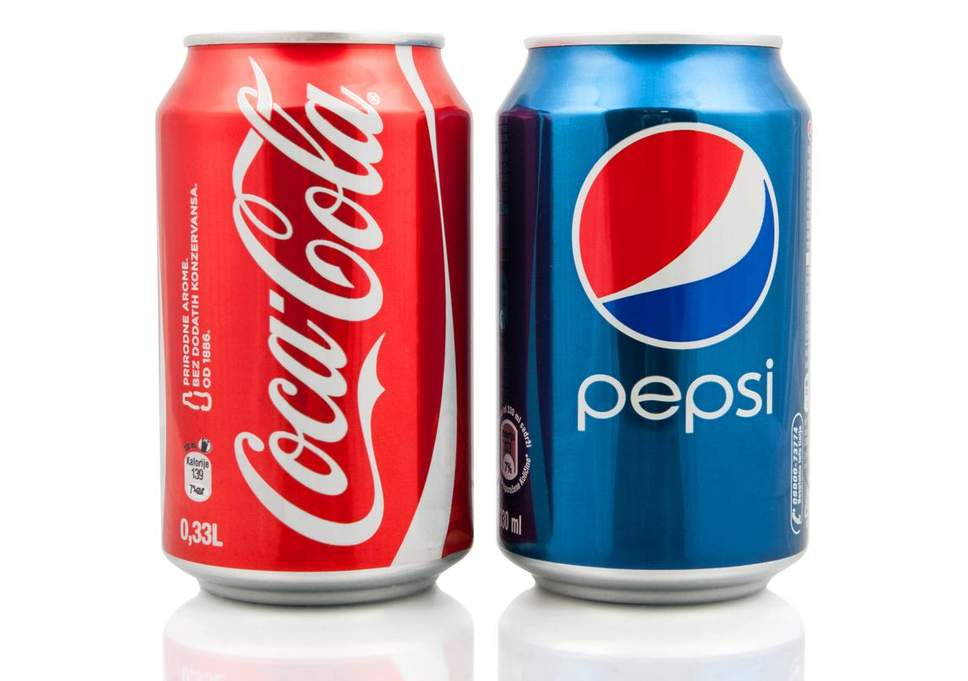pepsi: (579, 125, 773, 344)
